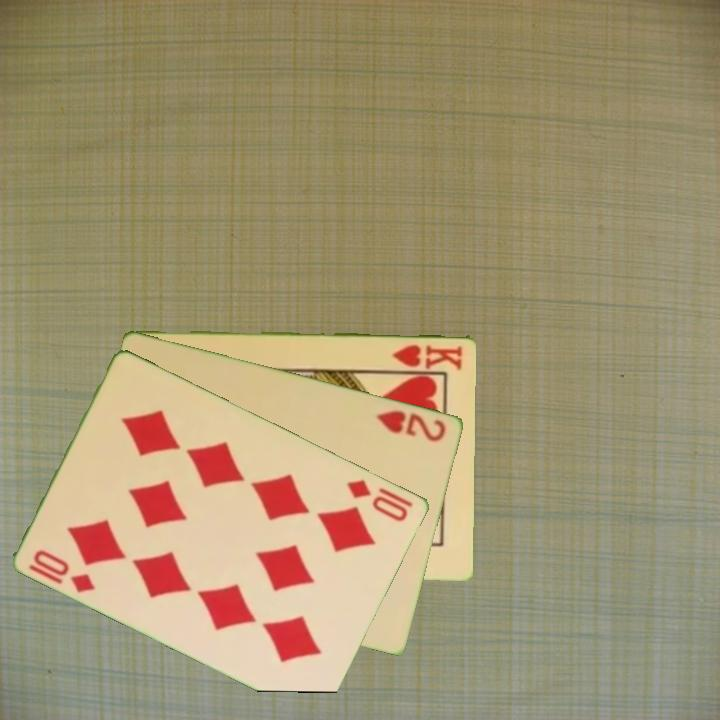10d: (30, 546, 99, 596), (344, 475, 412, 525)
2h: (373, 406, 449, 445)
Kh: (389, 340, 466, 371)
